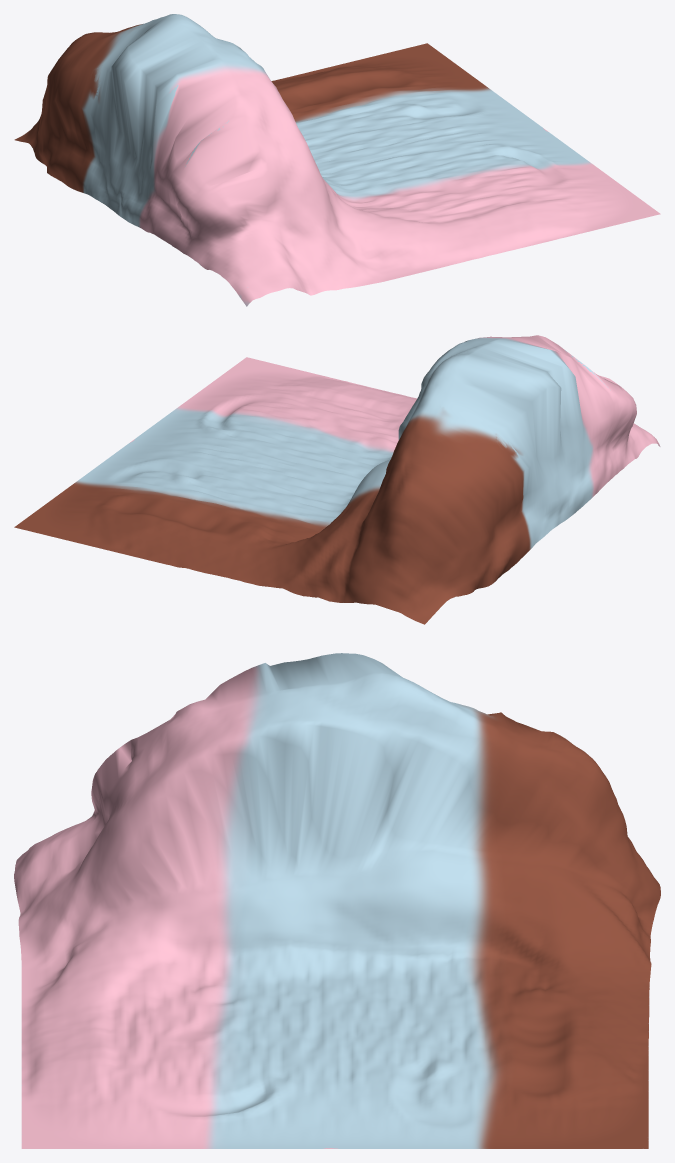
Rendered from Terreno 6.fbx.
The picture shows the model from 3 angles, top to bottom: view 1: azimuth 30°, elevation 25°; view 2: azimuth 150°, elevation 25°; view 3: azimuth 270°, elevation 25°; orthographic projection. The views are drawn at different scales.
Visible parts, largest first — view 1: Landscape; view 2: Landscape; view 3: Landscape.
Part boxes in pixels (x1,y1,x2,y2): Landscape: (14, 14, 660, 306); Landscape: (14, 335, 660, 624); Landscape: (14, 653, 660, 1148).
Bounding box in the file's own units: 31399 × 12618 × 30145.
